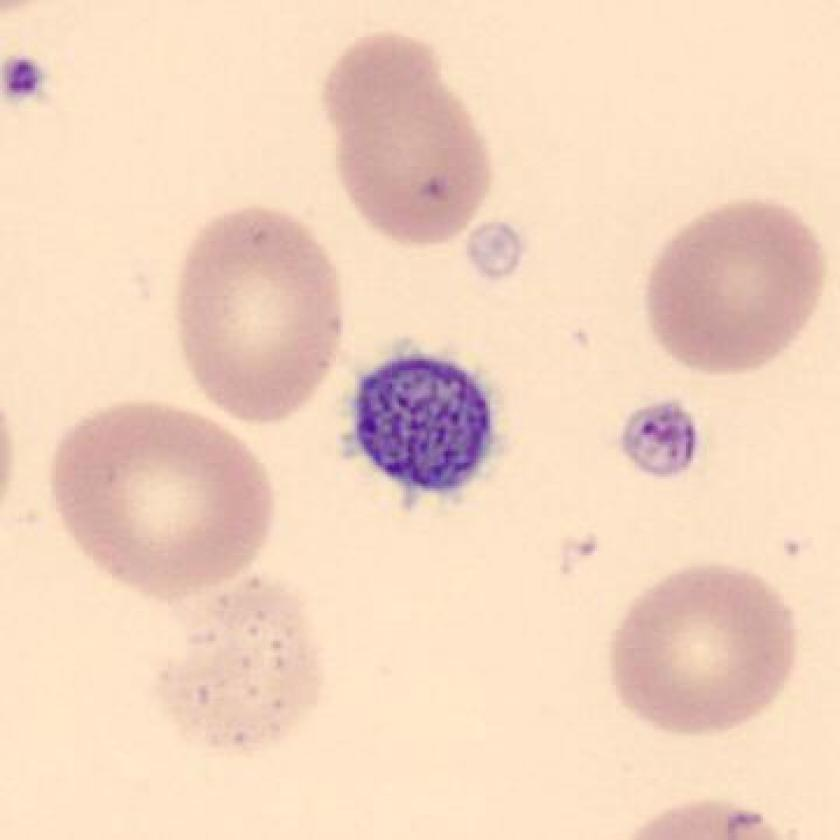platelets: (337, 339, 512, 505)
